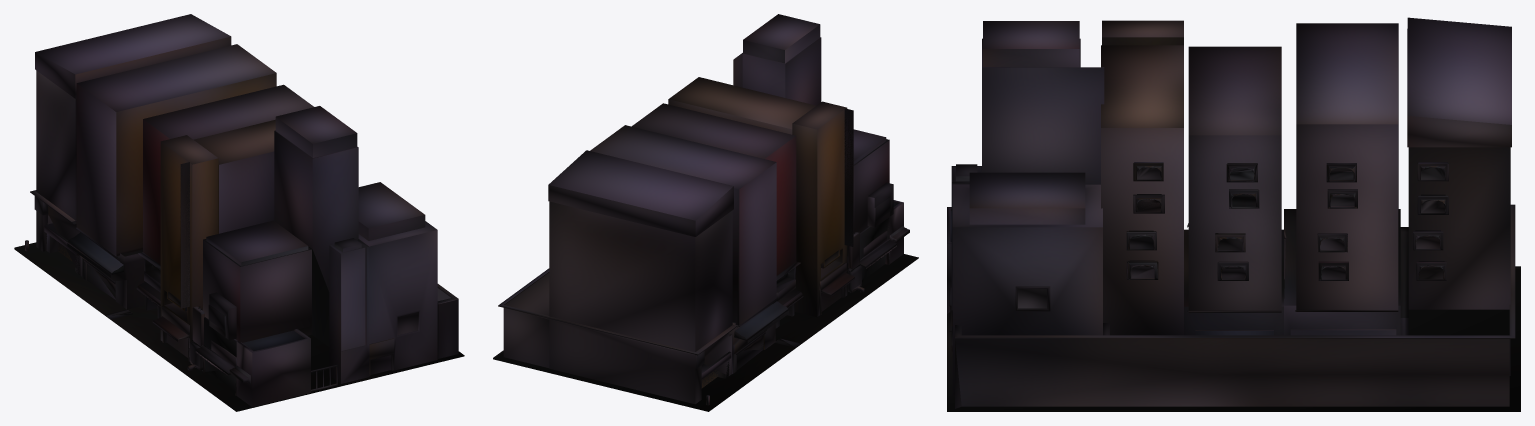
File: BG_BUILDING.glb
3 views of the same model, side by side, from view 1: azimuth 30°, elevation 25°; view 2: azimuth 150°, elevation 25°; view 3: azimuth 270°, elevation 25° (orthographic). The views are drawn at different scales.
Visible parts, largest first — view 1: tripo_node_4bae5984-e7fd-4e13-b2cc-a0c2456c2ee1.001; view 2: tripo_node_4bae5984-e7fd-4e13-b2cc-a0c2456c2ee1.001; view 3: tripo_node_4bae5984-e7fd-4e13-b2cc-a0c2456c2ee1.001.
Boxes of the visible parts, x1,y1,x2,y2 form: tripo_node_4bae5984-e7fd-4e13-b2cc-a0c2456c2ee1.001: (14, 14, 464, 411); tripo_node_4bae5984-e7fd-4e13-b2cc-a0c2456c2ee1.001: (493, 14, 918, 411); tripo_node_4bae5984-e7fd-4e13-b2cc-a0c2456c2ee1.001: (947, 17, 1520, 411).
Size of the model in its own units: 34.08 by 33.62 by 57.46.
Materials: 1 (1 with a texture image).
